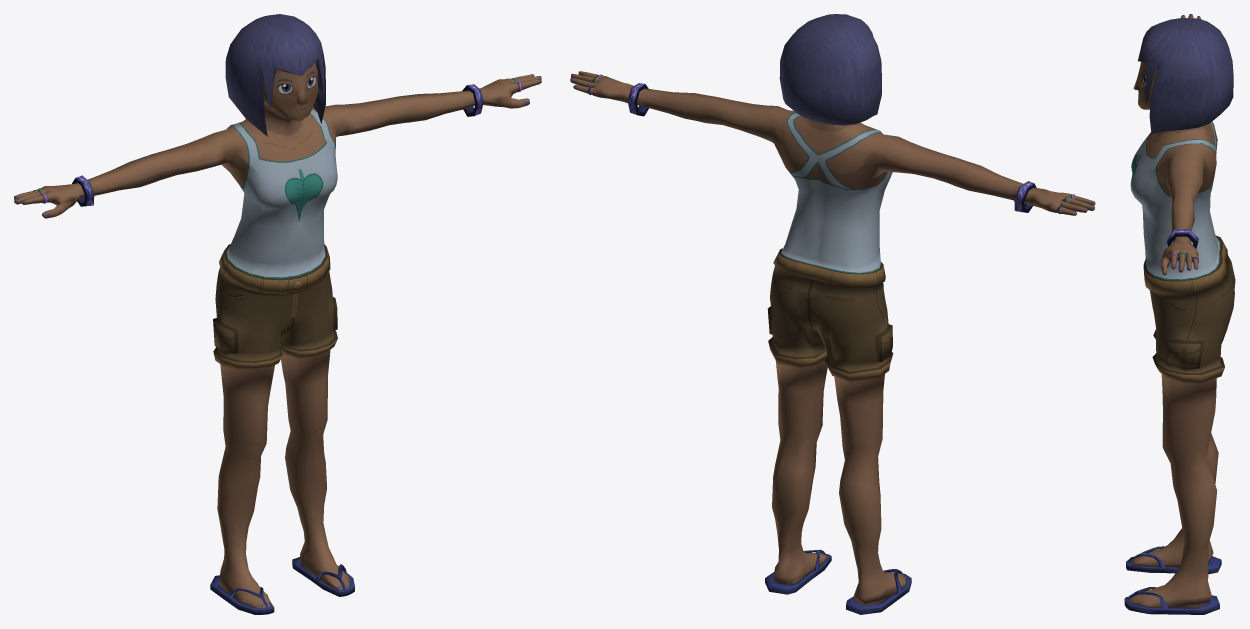
File: Minotaa.fbx
3 renders of one model, left to right at view 1: azimuth 30°, elevation 25°; view 2: azimuth 150°, elevation 25°; view 3: azimuth 270°, elevation 25°, orthographic.
Parts seen in each view (by area): view 1: Cube.002, Cube.001; view 2: Cube.002; view 3: Cube.002, Cube.001.
Boxes of the visible parts, bbox=[...] form: Cube.002: bbox=[14, 14, 541, 614]; Cube.001: bbox=[264, 62, 318, 120]; Cube.002: bbox=[570, 14, 1095, 614]; Cube.002: bbox=[1124, 14, 1235, 614]; Cube.001: bbox=[1133, 62, 1156, 108].
Bounding box in the file's own units: 409 × 422 × 75.37.
